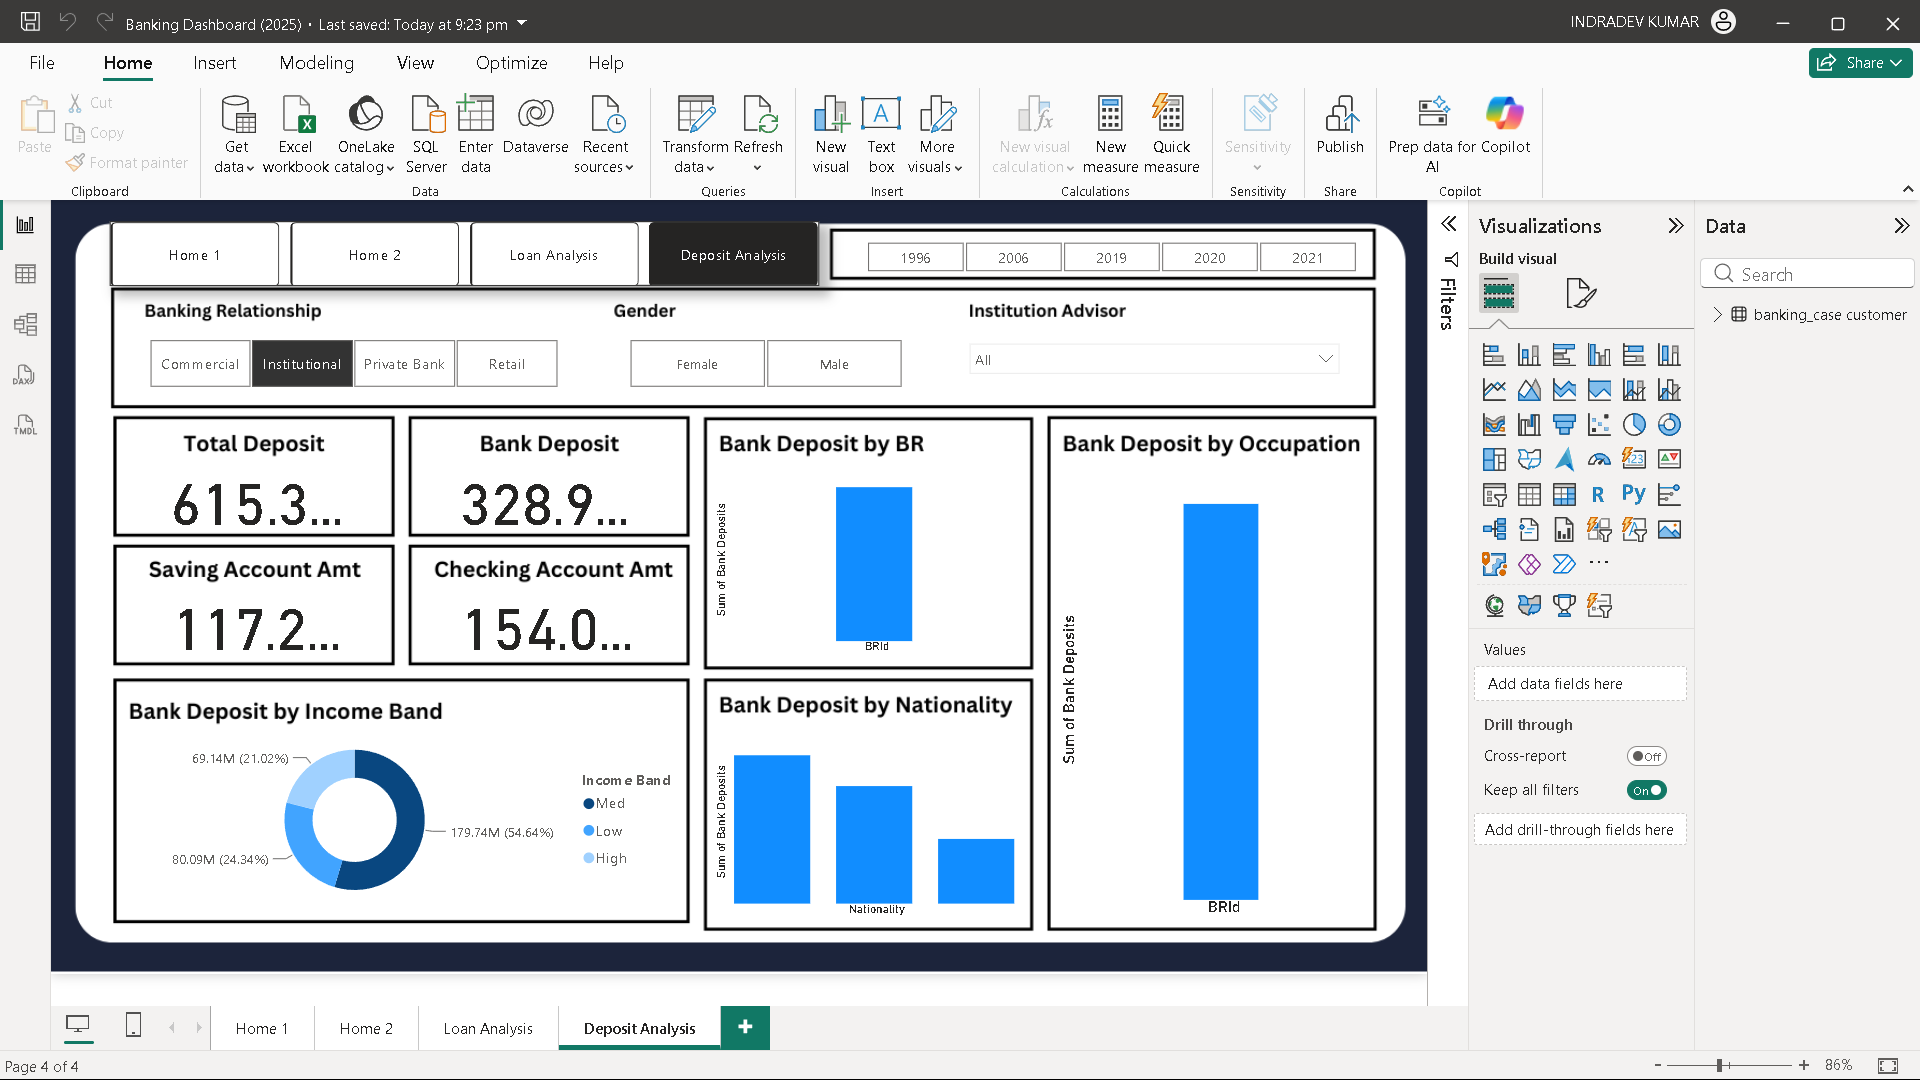

Layout of this report page (visuals, bound fields, positions):
{"tool":"powerbi","page":{"name":"Deposit Analysis","canvas":[1280,720],"ordinal":3},"visuals":[{"type":"slicer","fields":{"Values":["banking_case customer.Year of Joining"]},"box":[733.3,32.2,504.1,34.9],"z":0},{"type":"card","fields":{"Values":["banking_case customer.Total Deposit"]},"box":[100.9,243.7,179.5,65.5],"z":4000},{"type":"card","fields":{"Values":["Sum(banking_case customer.Bank Deposits)"]},"box":[369.5,243.7,179.5,65.5],"z":5000},{"type":"card","fields":{"Values":["Sum(banking_case customer.Saving Accounts)"]},"box":[100.9,360.4,179.5,65.5],"z":6000},{"type":"card","fields":{"Values":["Sum(banking_case customer.Checking Accounts)"]},"box":[370.8,360.4,179.5,65.5],"z":7000},{"type":"donutChart","fields":{"Category":["banking_case customer.Income Band"],"Y":["Sum(banking_case customer.Bank Deposits)"]},"box":[66.8,488.8,530.7,176.9],"z":8000},{"type":"clusteredColumnChart","fields":{"Category":["banking_case customer.BRId"],"Y":["Sum(banking_case customer.Bank Deposits)"]},"box":[613.3,243.7,293.5,182.1],"z":9000},{"type":"clusteredColumnChart","fields":{"Category":["banking_case customer.Nationality"],"Y":["Sum(banking_case customer.Bank Deposits)"]},"box":[613.3,488.8,293.5,182.1],"z":10000},{"type":"slicer","fields":{"Values":["banking_case customer.BRId"]},"box":[66.8,123.2,428.5,57.7],"z":11000},{"type":"slicer","fields":{"Values":["banking_case customer.GenderId"]},"box":[512.4,123.2,302.7,57.7],"z":12000},{"type":"slicer","fields":{"Values":["banking_case customer.IAId"]},"box":[843.9,123.2,364.3,57.7],"z":13000},{"type":"clusteredColumnChart","fields":{"Category":["banking_case customer.BRId"],"Y":["Sum(banking_case customer.Bank Deposits)"]},"box":[933.7,245.3,292.8,425.7],"z":14000},{"type":"pageNavigator","box":[55,20,660,60],"z":15001}]}

Visuals, with their boxes on the page's 1280x720 design canvas (x1, y1, x2, y2). These are canvas units, not pixel positions in the 1920x1080 screenshot, which may show the page scaled, cropped or inside an application window:
slicer - banking_case customer.Year of Joining: l=733, t=32, r=1237, b=67
card - banking_case customer.Total Deposit: l=101, t=244, r=280, b=309
card - Sum(banking_case customer.Bank Deposits): l=370, t=244, r=549, b=309
card - Sum(banking_case customer.Saving Accounts): l=101, t=360, r=280, b=426
card - Sum(banking_case customer.Checking Accounts): l=371, t=360, r=550, b=426
donutChart - banking_case customer.Income Band x Sum(banking_case customer.Bank Deposits): l=67, t=489, r=598, b=666
clusteredColumnChart - banking_case customer.BRId x Sum(banking_case customer.Bank Deposits): l=613, t=244, r=907, b=426
clusteredColumnChart - banking_case customer.Nationality x Sum(banking_case customer.Bank Deposits): l=613, t=489, r=907, b=671
slicer - banking_case customer.BRId: l=67, t=123, r=495, b=181
slicer - banking_case customer.GenderId: l=512, t=123, r=815, b=181
slicer - banking_case customer.IAId: l=844, t=123, r=1208, b=181
clusteredColumnChart - banking_case customer.BRId x Sum(banking_case customer.Bank Deposits): l=934, t=245, r=1226, b=671
pageNavigator: l=55, t=20, r=715, b=80
